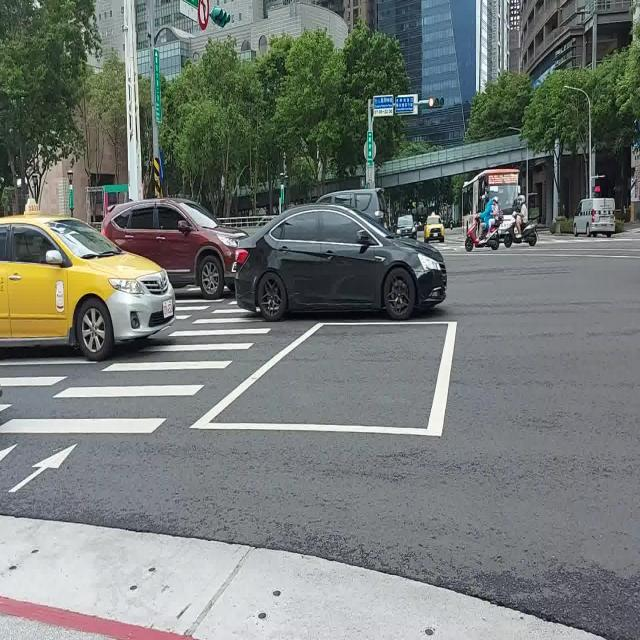bus: (461, 167, 520, 231)
car: (0, 213, 176, 360), (235, 204, 446, 320), (101, 198, 245, 297), (319, 187, 389, 227), (572, 198, 615, 238), (424, 216, 445, 242), (395, 213, 416, 239)
crosswalk: (0, 296, 274, 435), (0, 357, 98, 417), (176, 294, 226, 321)
motocycle: (465, 213, 500, 251), (504, 218, 538, 247)
